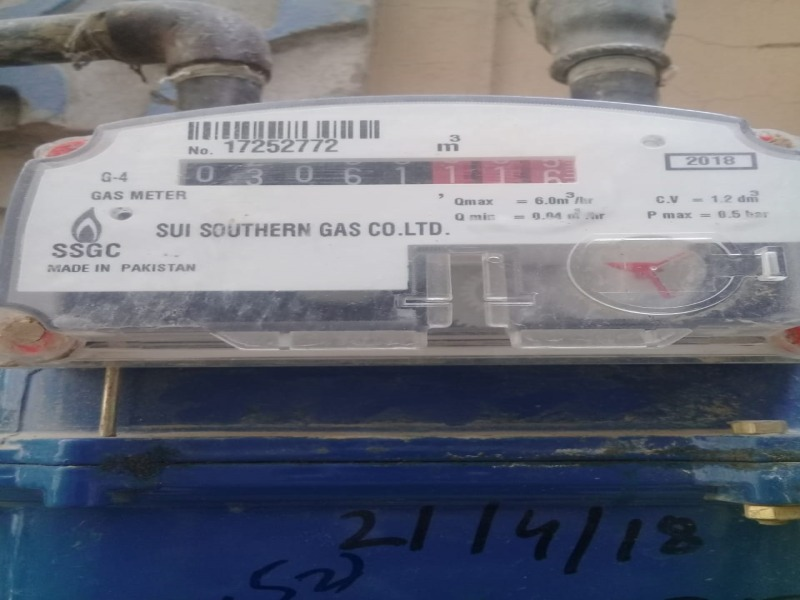ssgc: (176, 156, 580, 189)
